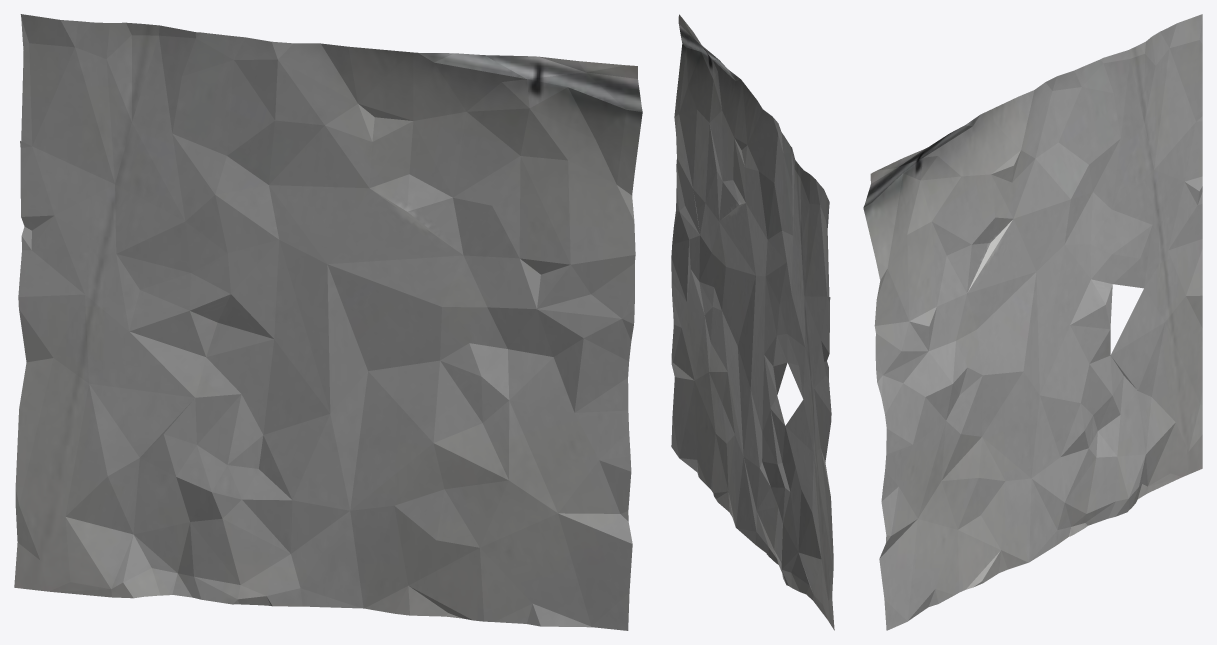
3 renders of one model, left to right at view 1: azimuth 30°, elevation 25°; view 2: azimuth 150°, elevation 25°; view 3: azimuth 270°, elevation 25°, orthographic. The views are drawn at different scales.
Bounding box in the file's own units: 0.6373 × 0.8374 × 0.5631.
3 materials, 3 textured.
